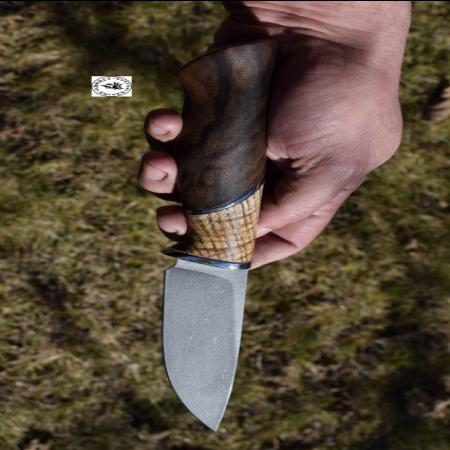long weapon: (144, 105, 324, 436)
